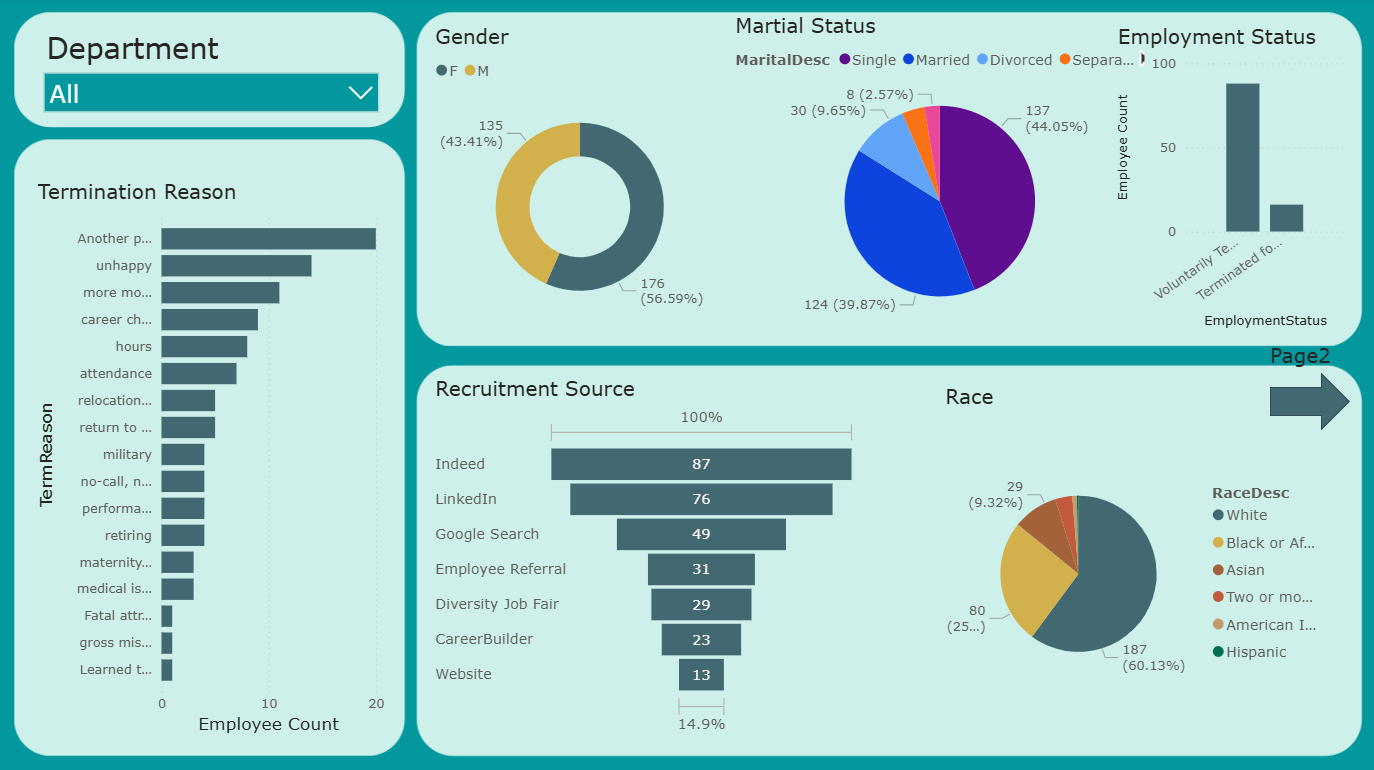

Layout of this report page (visuals, bound fields, positions):
{"tool":"powerbi","page":{"name":"Page 1","canvas":[1280,720],"ordinal":0},"visuals":[{"type":"slicer","fields":{"Values":["HRDataset.Department"]},"box":[30.2,25.6,332.6,82.6],"z":0},{"type":"donutChart","title":"Gender","fields":{"Category":["HRDataset.Sex"],"Y":["CountNonNull(HRDataset.EmpID)"]},"box":[400,25.6,279.1,287.2],"z":1000},{"type":"pieChart","title":"Martial Status","fields":{"Category":["HRDataset.MaritalDesc"],"Y":["CountNonNull(HRDataset.EmpID)"]},"box":[679.1,15.1,390.7,297.7],"z":2000},{"type":"columnChart","title":"Employment Status","fields":{"Category":["HRDataset.EmploymentStatus"],"Y":["CountNonNull(HRDataset.EmpID)"]},"box":[1034.9,25.6,220.9,287.2],"z":3000},{"type":"barChart","title":"Termination Reason","fields":{"Category":["HRDataset.TermReason"],"Y":["CountNonNull(HRDataset.EmpID)"]},"box":[30.2,169.8,332.6,520.9],"z":4000},{"type":"pieChart","title":"Race","fields":{"Category":["HRDataset.RaceDesc"],"Y":["CountNonNull(HRDataset.EmpID)"]},"box":[874.4,360.5,365.1,330.2],"z":5000},{"type":"funnel","title":"Recruitment Source","fields":{"Category":["HRDataset.RecruitmentSource"],"Y":["CountNonNull(HRDataset.EmpID)"]},"box":[400,352.3,402.3,338.4],"z":6000},{"type":"shape","title":"Page2","box":[1181.4,322.1,74.4,81.4],"z":7000}]}

Visuals, with their boxes in screenshot pixels (x1, y1, x2, y2), scaled from the page's 1280x720 canvas onto the 1374x770 screenshot:
slicer - HRDataset.Department: [32,27,389,116]
"Gender" donutChart: [429,27,729,335]
"Martial Status" pieChart: [729,16,1148,335]
"Employment Status" columnChart: [1111,27,1348,335]
"Termination Reason" barChart: [32,182,389,739]
"Race" pieChart: [939,386,1331,739]
"Recruitment Source" funnel: [429,377,861,739]
"Page2" shape: [1268,344,1348,432]
